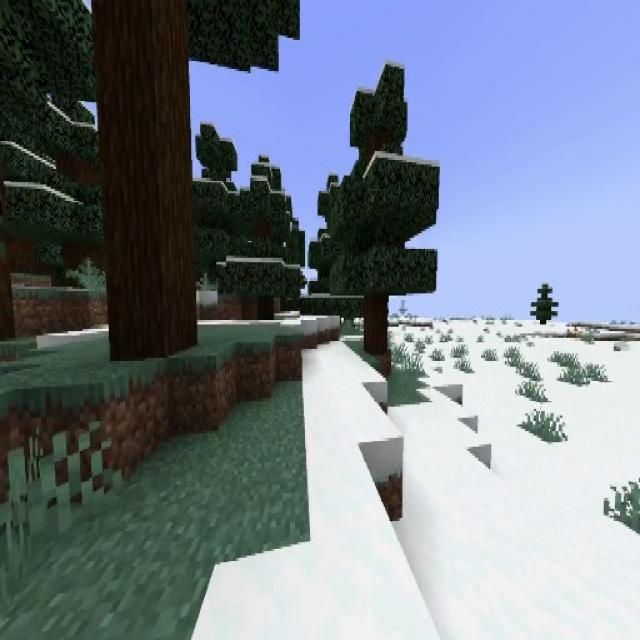spruce: (328, 67, 438, 358), (223, 159, 302, 319), (532, 281, 558, 325)
spruce_log: (94, 0, 197, 356), (366, 296, 386, 355), (258, 296, 274, 320)
